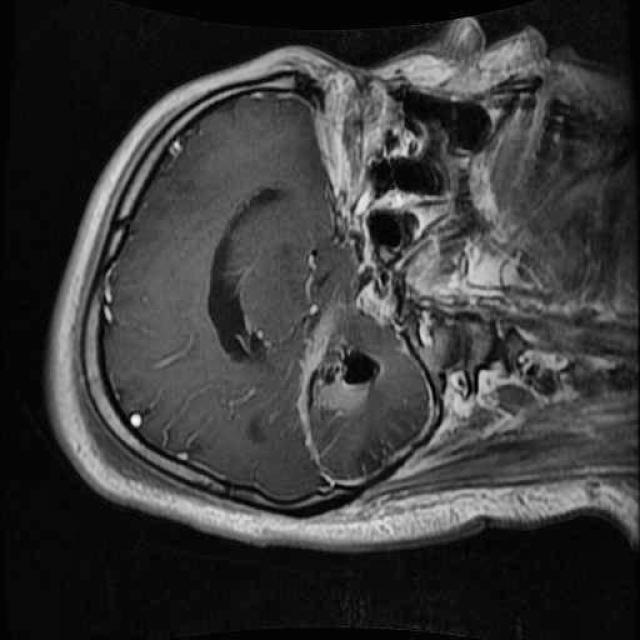Tumor: (280, 306, 405, 446)
